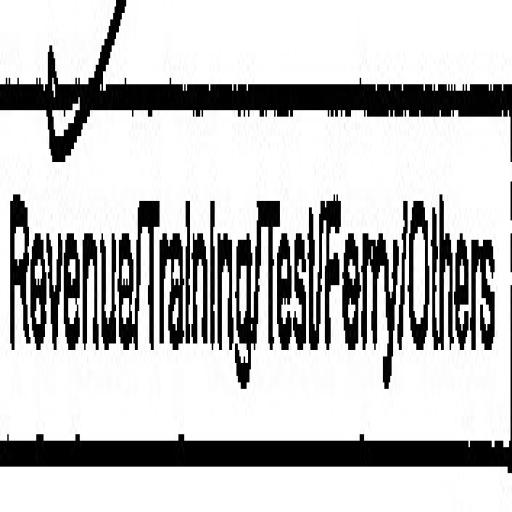check: (0, 0, 139, 493)
